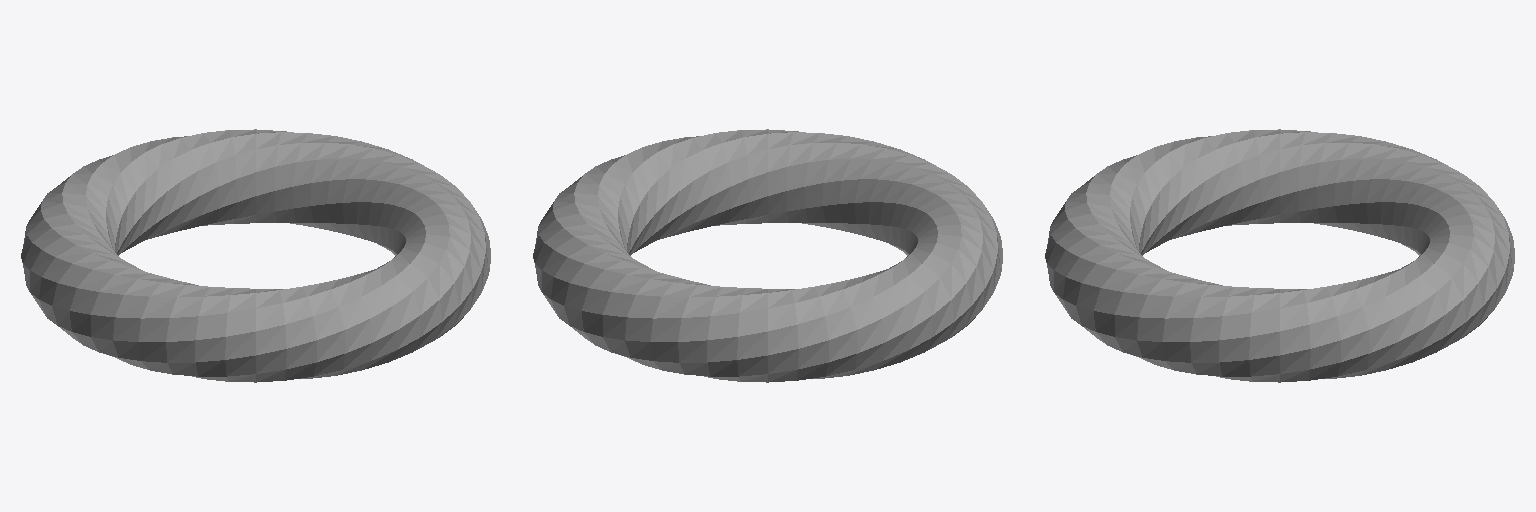
The picture shows the model from 3 angles: view 1: azimuth 30°, elevation 25°; view 2: azimuth 150°, elevation 25°; view 3: azimuth 270°, elevation 25°; orthographic projection.
Visible parts, largest first — view 1: TwistedTorus; view 2: TwistedTorus; view 3: TwistedTorus.
Part boxes in pixels (left/top/right/bottom): TwistedTorus: left=21, top=129, right=490, bottom=382; TwistedTorus: left=533, top=129, right=1002, bottom=382; TwistedTorus: left=1045, top=129, right=1514, bottom=382.
Bounding box in the file's own units: 2.5 × 0.5 × 2.5.